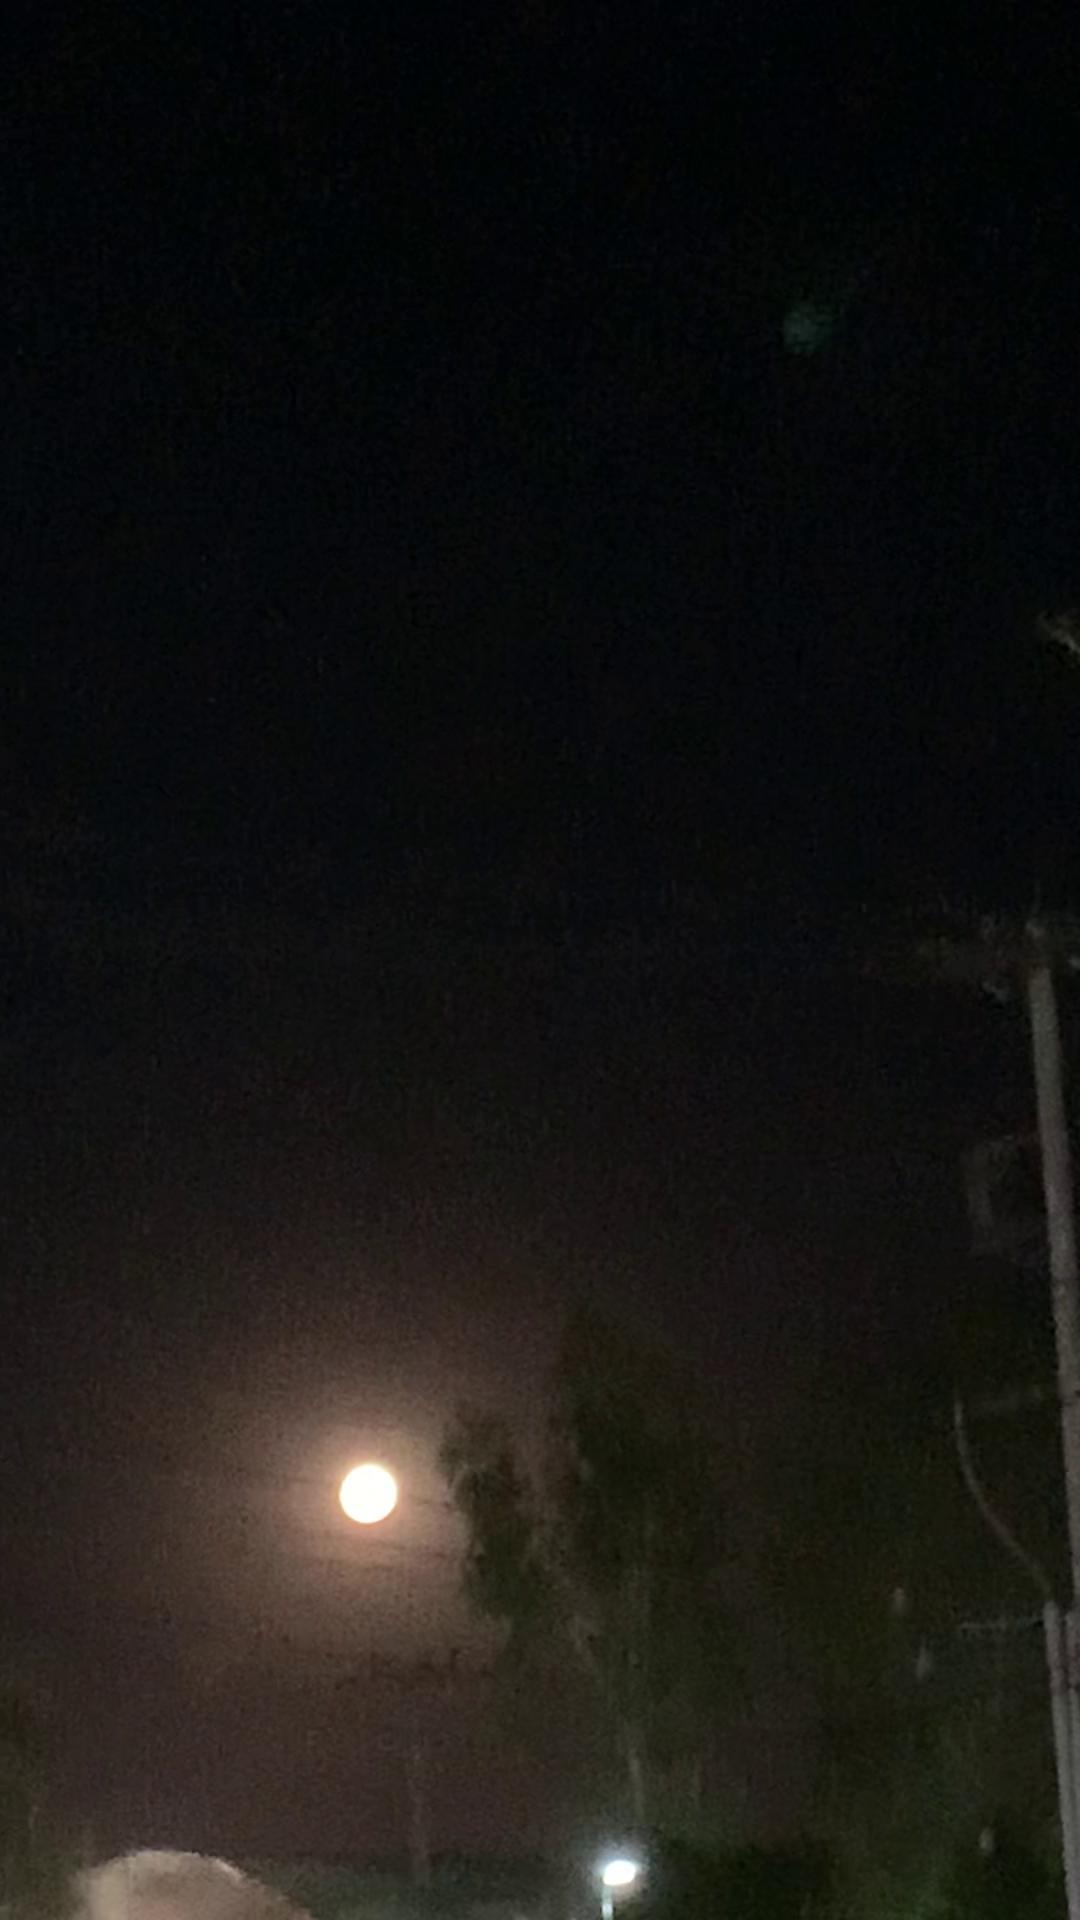moon: (331, 1448, 419, 1524)
